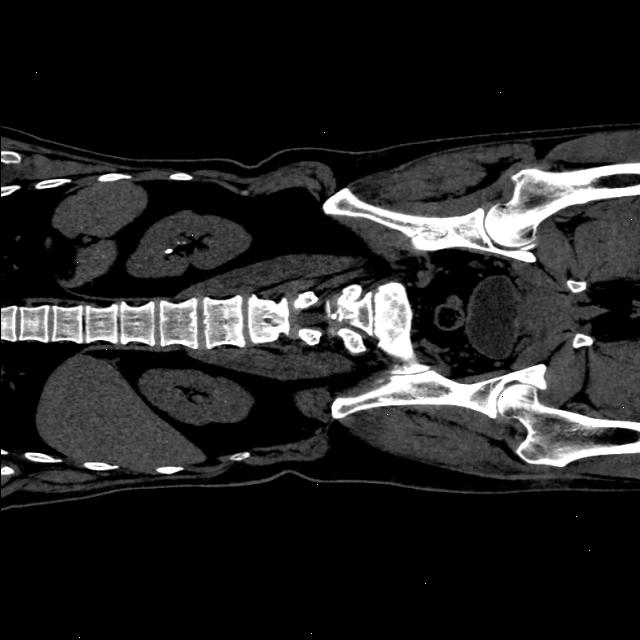kidneystone: (164, 248, 172, 254)
